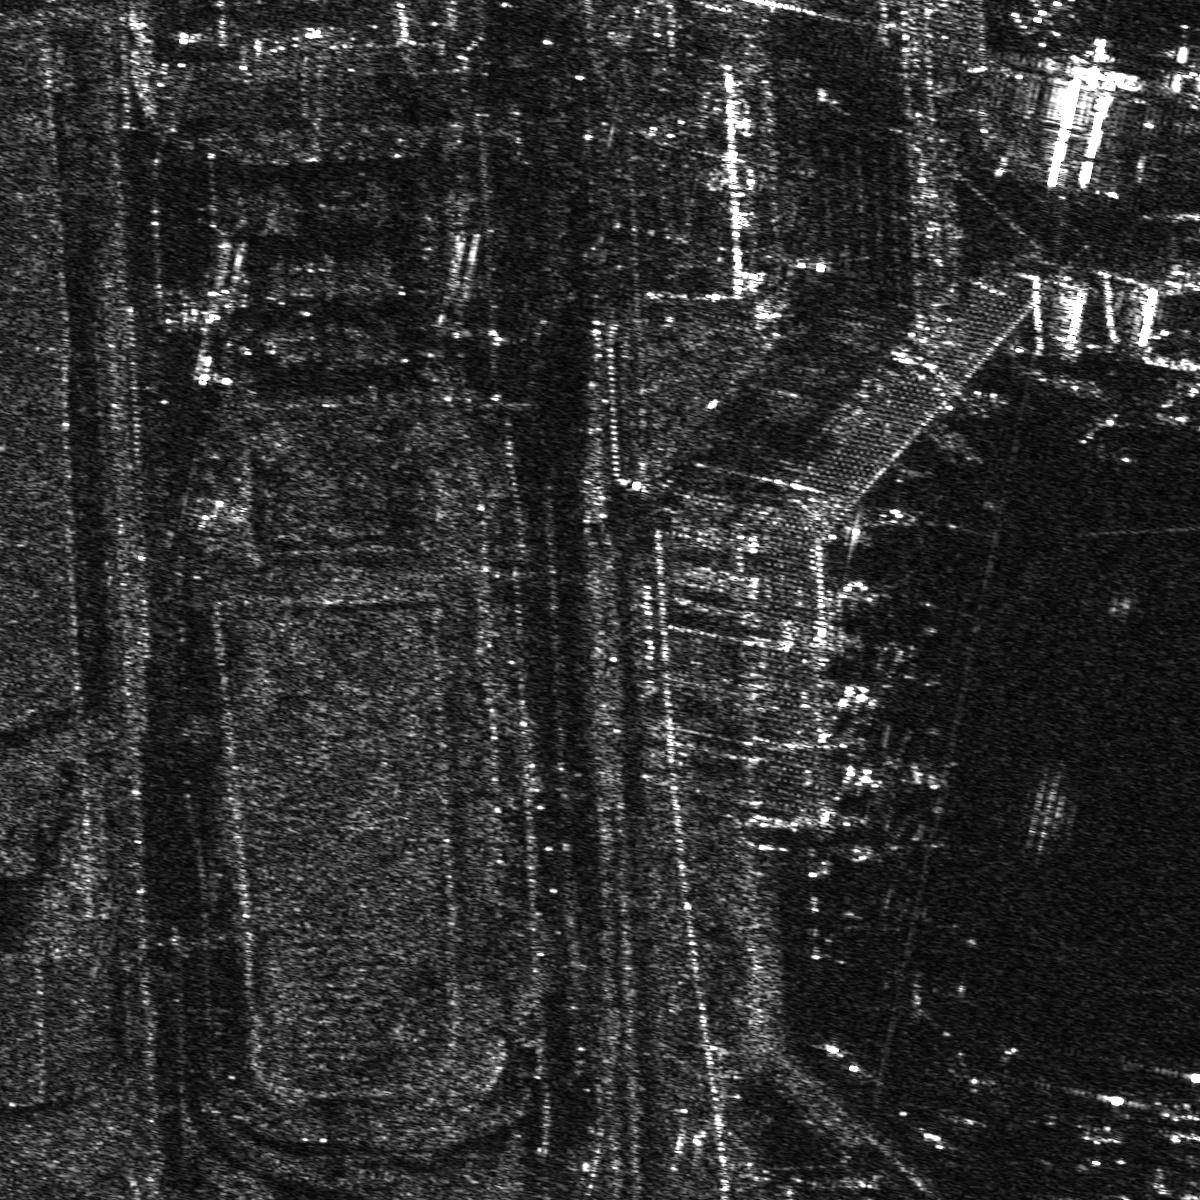A220: (1137, 1064, 1199, 1154), (1157, 362, 1199, 434)
Boeing737: (1051, 1084, 1132, 1157), (1079, 391, 1145, 468)
